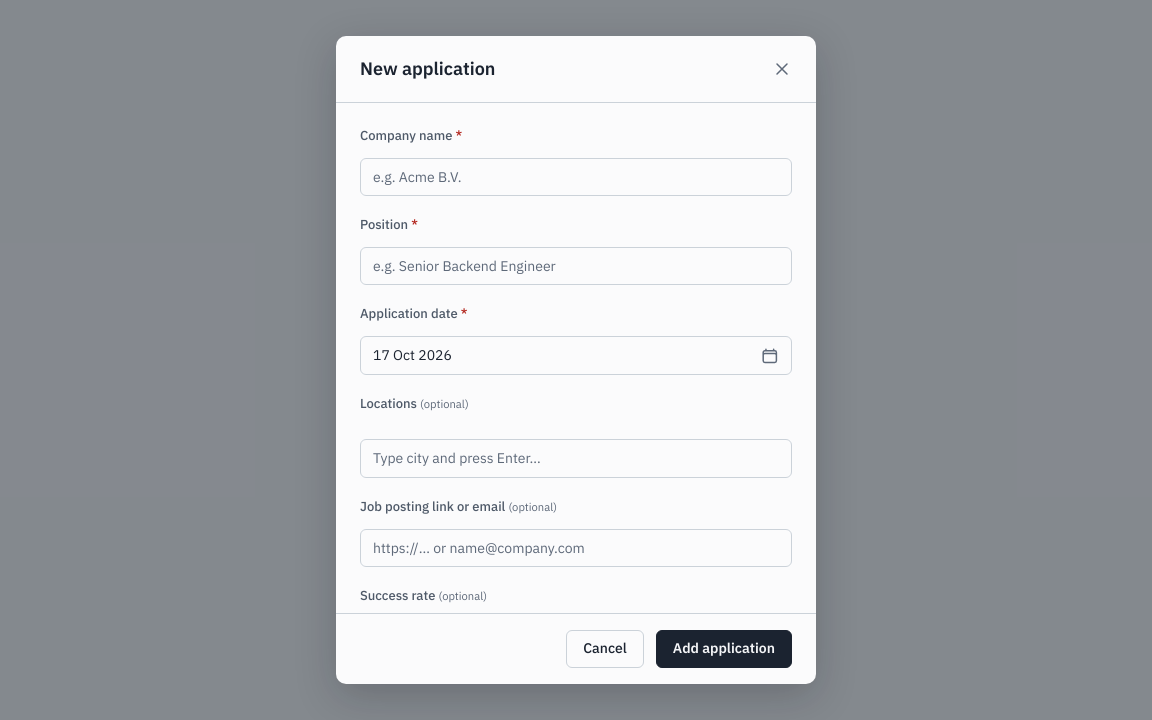
Test: NewApplicationModal – parse job link › shows a hint when nothing could be read
Step 1. Type "https://example.com/job/1" into the field with id "new-app-joburl" → (576, 548), box [360, 528, 792, 567]
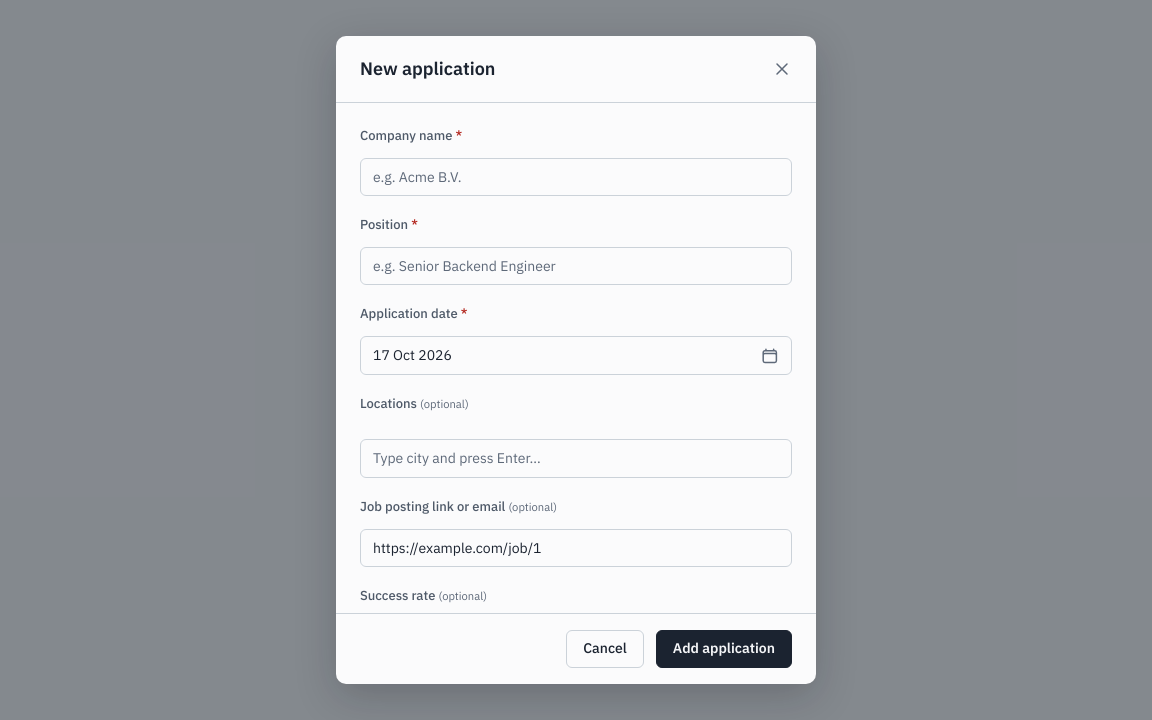
Step 2. Leave the field with id "new-app-joburl", box [360, 528, 792, 567]
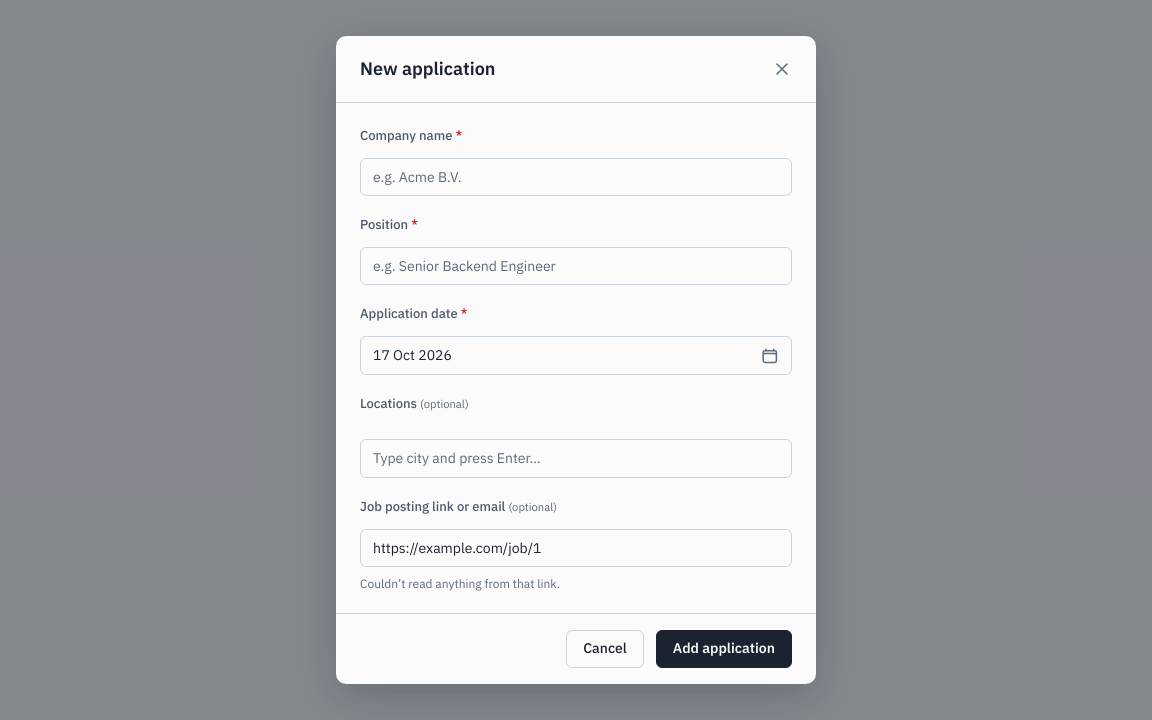
expect the message "Couldn’t read anything from that link." is shown: met, box [360, 576, 560, 591]
